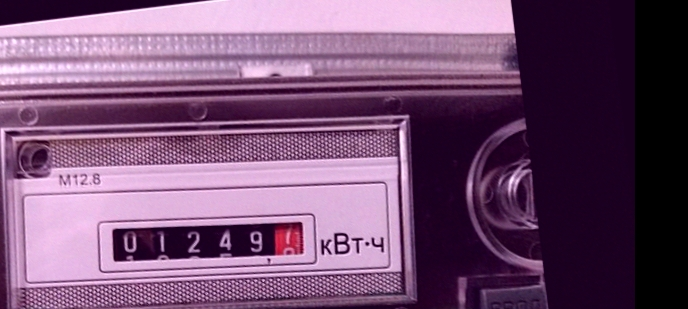0: (121, 228, 141, 256)
1: (153, 227, 170, 255)
2: (184, 229, 204, 257)
4: (216, 227, 235, 253)
7: (280, 220, 298, 248)
9: (246, 228, 266, 256)
screen: (93, 194, 324, 294)
